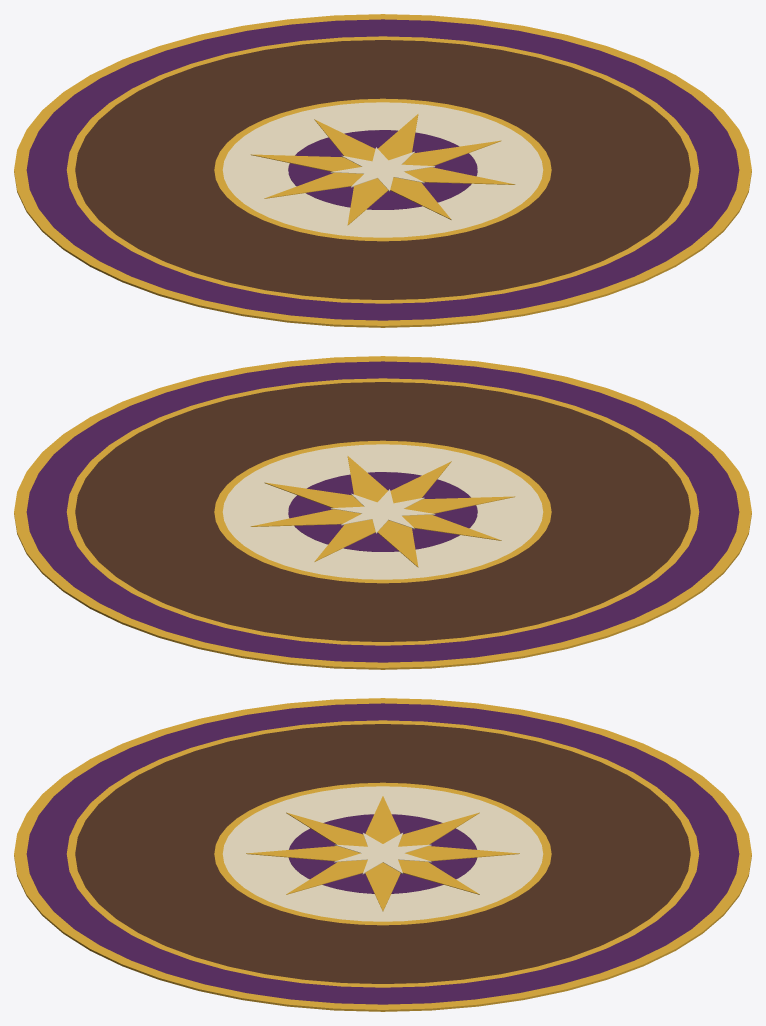
Rendered from masq_rosette.glb.
3 views of the same model, one above another, from view 1: azimuth 30°, elevation 25°; view 2: azimuth 150°, elevation 25°; view 3: azimuth 270°, elevation 25° (orthographic).
Visible parts, largest first — view 1: masq_rosette; view 2: masq_rosette; view 3: masq_rosette.
Boxes of the visible parts, x1,y1,x2,y2 form: masq_rosette: (14,14,751,327); masq_rosette: (14,356,751,669); masq_rosette: (14,698,751,1011).
Bounding box in the file's own units: 7 × 0.03 × 7.
